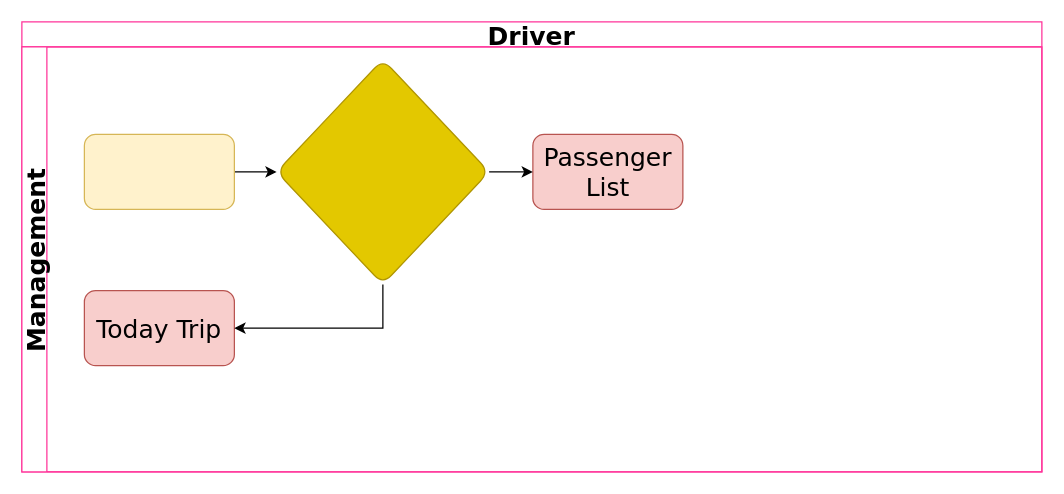
Some shapes in this 1064 by 494 pixel diagram are drawn without their labels. The shapes that lost their labels are listed below. From the top down, each one's centre as x and y in pixels, then its label:
At point 158,171: "Start".
At point 382,171: "Login/ registration".
